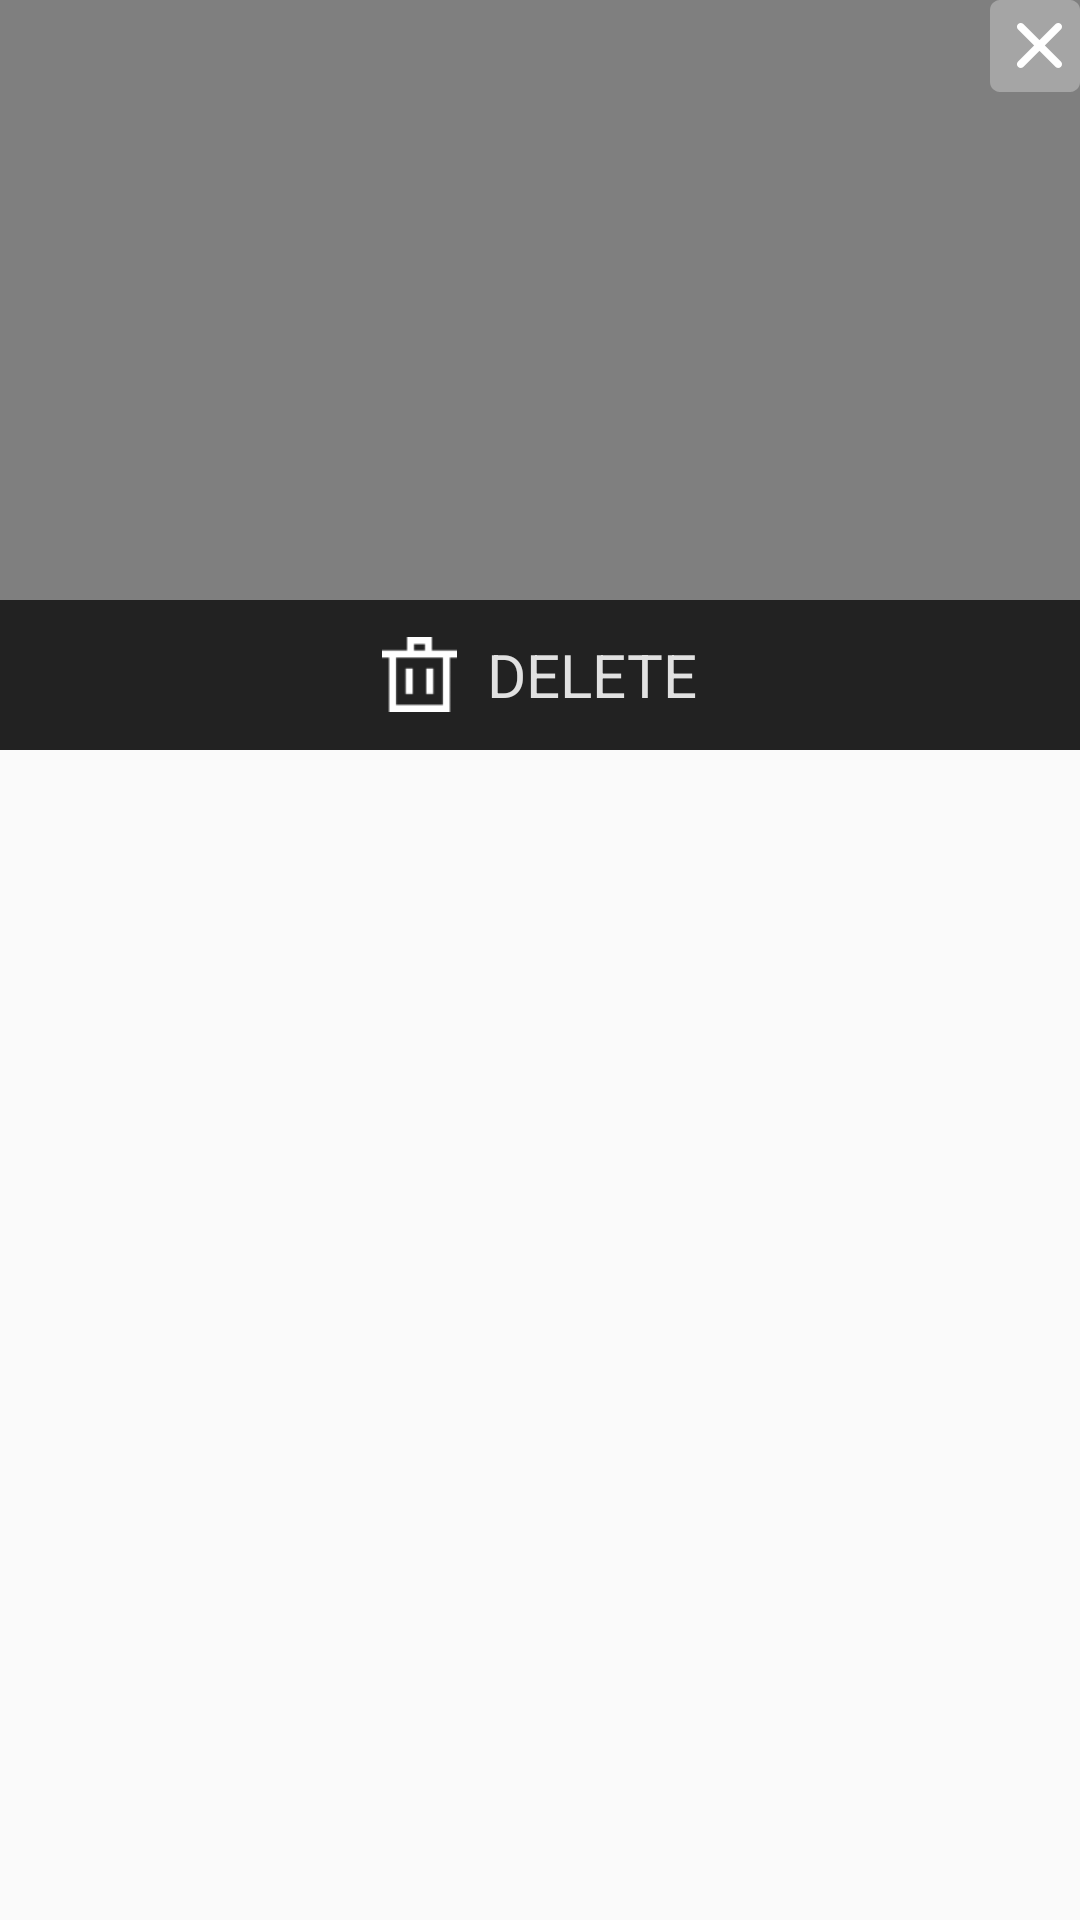

Screen size 1080*1920. Icon name, then its center in pixels as (x=x, y=y):
cross video: (x=1035, y=46)
del video: (x=419, y=674)
